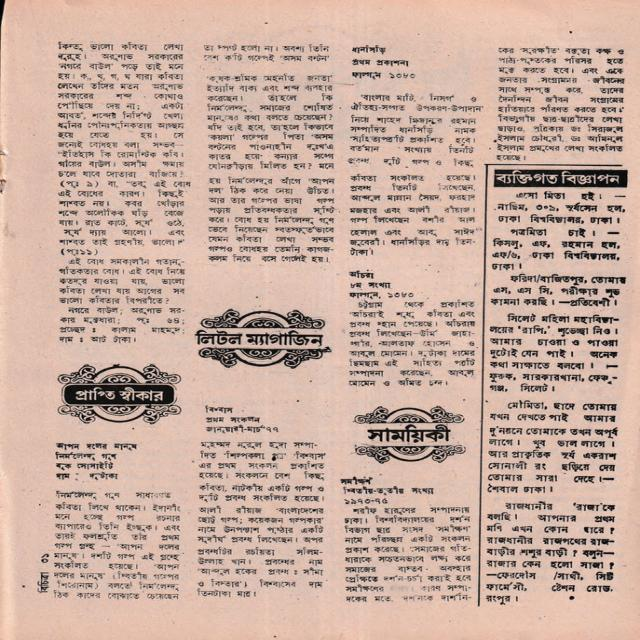advertisement: (478, 165, 632, 610)
image: (195, 309, 331, 368), (58, 365, 182, 424), (355, 406, 465, 463)
page number: (31, 549, 54, 566)
paragraph: (55, 37, 197, 259), (200, 70, 341, 266), (341, 86, 485, 261), (186, 439, 330, 603), (487, 44, 635, 166), (54, 489, 184, 606), (341, 499, 480, 608), (342, 298, 479, 390), (51, 257, 189, 346), (194, 40, 336, 63)
text: (201, 418, 288, 437), (53, 468, 123, 485), (335, 485, 439, 496), (342, 55, 420, 69), (346, 286, 417, 301), (349, 69, 423, 82), (199, 413, 270, 426), (49, 460, 127, 471), (50, 451, 126, 462), (339, 493, 394, 507), (344, 278, 397, 291), (33, 568, 51, 597)
title: (195, 328, 322, 346), (366, 424, 455, 445), (73, 387, 165, 402), (54, 438, 147, 452), (346, 41, 396, 55), (338, 474, 380, 488), (345, 267, 383, 281), (200, 401, 238, 415)
